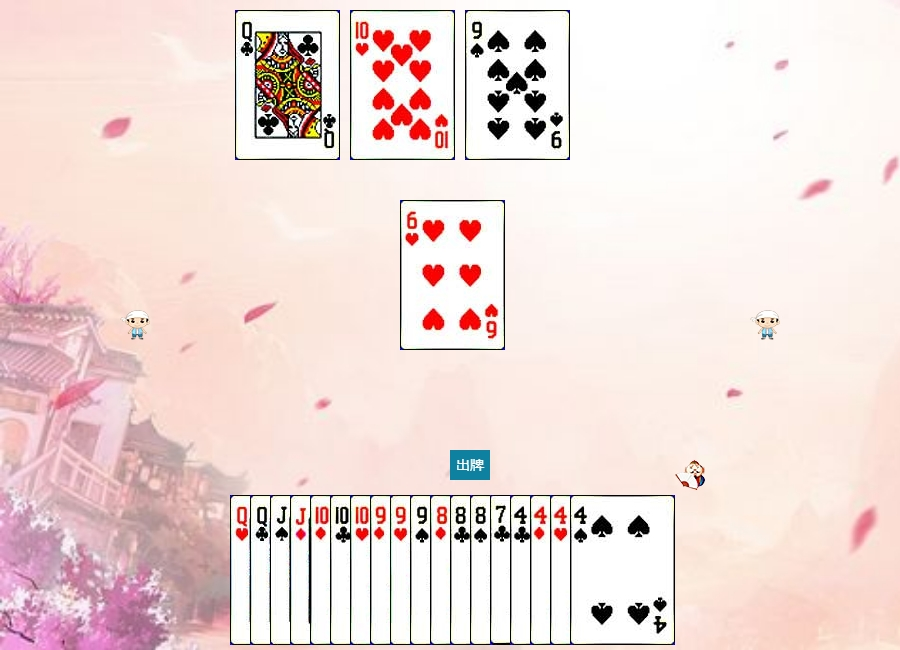10~1: (310, 495, 415, 645)
10~2: (330, 495, 435, 645)
10~3: (350, 10, 455, 160), (350, 495, 455, 645)
11~1: (290, 495, 395, 645)
11~4: (270, 495, 375, 645)
12~2: (235, 10, 340, 160), (250, 495, 355, 645)
12~3: (230, 495, 335, 645)
4~1: (530, 495, 635, 645)
4~2: (510, 495, 615, 645)
4~3: (550, 495, 655, 645)
4~4: (570, 495, 675, 645)
6~3: (400, 200, 505, 350)
7~2: (490, 495, 595, 645)
8~1: (430, 495, 535, 645)
8~2: (450, 495, 555, 645)
8~4: (470, 495, 575, 645)
9~1: (370, 495, 475, 645)
9~3: (390, 495, 495, 645)
9~4: (465, 10, 570, 160), (410, 495, 515, 645)
